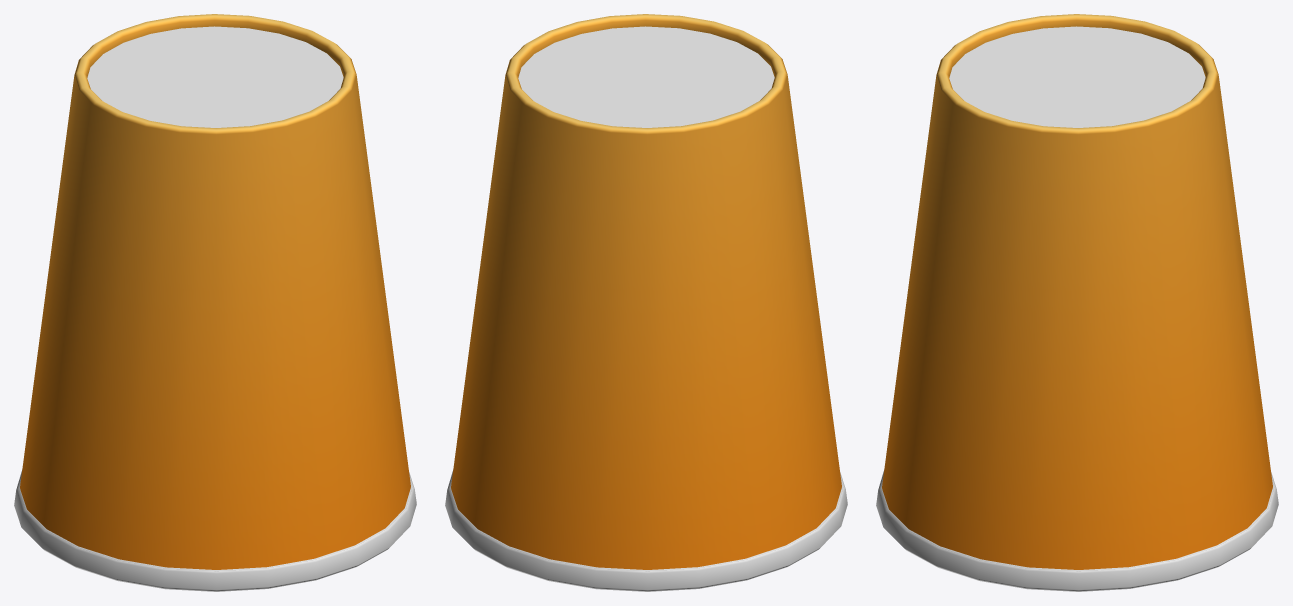
Rendered from Paper_Glass_02.fbx.
3 renders of one model, left to right at view 1: azimuth 30°, elevation 25°; view 2: azimuth 150°, elevation 25°; view 3: azimuth 270°, elevation 25°, orthographic.
Visible parts, largest first — view 1: Paper_Glass_02; view 2: Paper_Glass_02; view 3: Paper_Glass_02.
Boxes of the visible parts, bbox=[...] form: Paper_Glass_02: bbox=[14, 14, 416, 591]; Paper_Glass_02: bbox=[445, 14, 847, 591]; Paper_Glass_02: bbox=[876, 14, 1278, 591].
Size of the model in its own units: 10.09 by 12.07 by 10.09.
